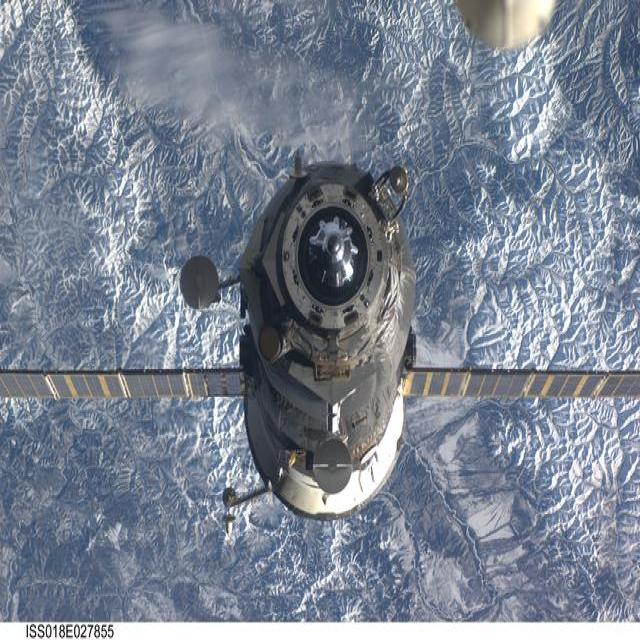satellite: (0, 161, 640, 519)
